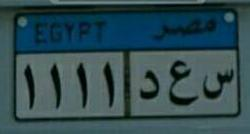1: (45, 57, 66, 112), (20, 59, 40, 115), (73, 59, 92, 112), (101, 60, 119, 110)
ain: (166, 58, 199, 110)
daal: (136, 65, 161, 102)
seen: (201, 65, 234, 104)
